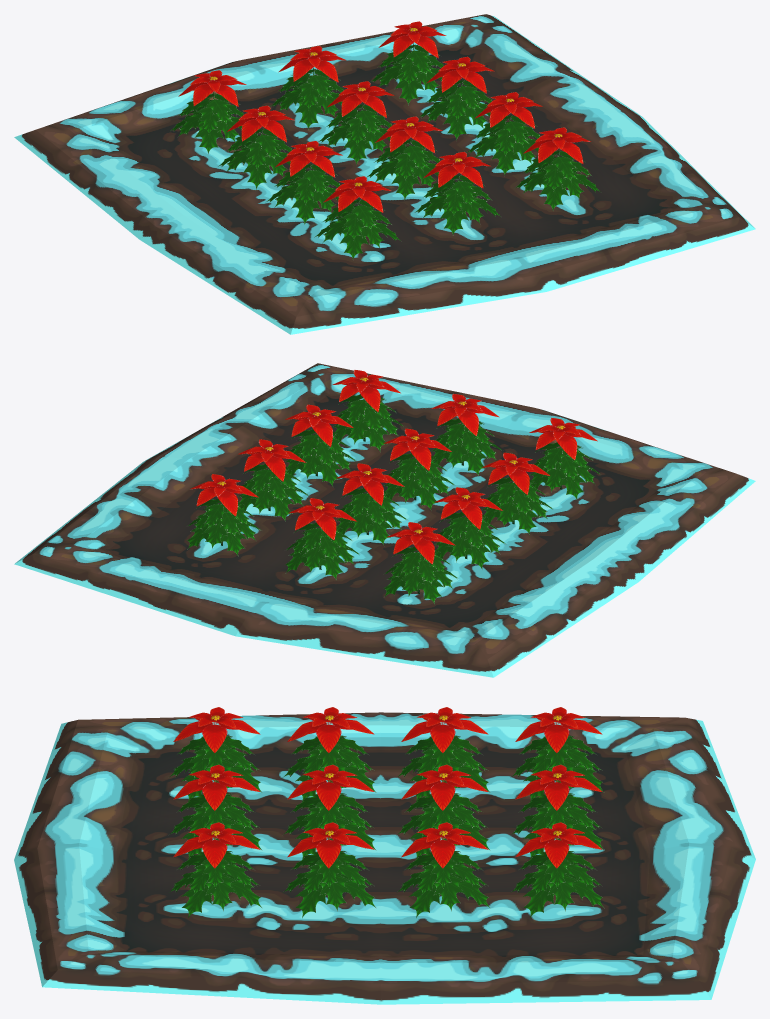
The model's file is Paddy4.FBX.
The picture shows the model from 3 angles, top to bottom: view 1: azimuth 30°, elevation 25°; view 2: azimuth 150°, elevation 25°; view 3: azimuth 270°, elevation 25°; orthographic projection. The views are drawn at different scales.
Visible parts, largest first — view 1: Object567, Line1678; view 2: Object567, Line1678; view 3: Object567, Line1678.
Part boxes in pixels (x1,y1,x2,y2): Object567: (14, 14, 755, 334); Line1678: (170, 21, 601, 259); Object567: (14, 363, 755, 677); Line1678: (187, 370, 600, 604); Object567: (14, 712, 755, 1004); Line1678: (168, 707, 604, 917).
Bounding box in the file's own units: 274 × 37.3 × 296.
Materials: 2 (2 with a texture image).
